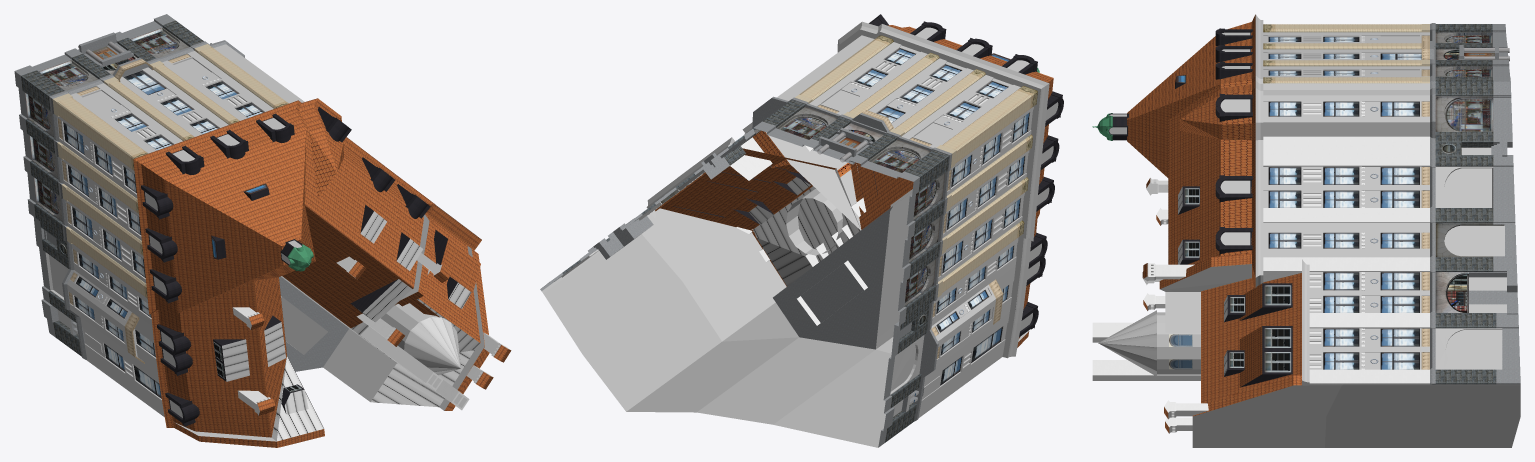
The model's file is Suur-Karja_7.obj.
3 renders of one model, left to right at view 1: azimuth 30°, elevation 25°; view 2: azimuth 150°, elevation 25°; view 3: azimuth 270°, elevation 25°, orthographic. The views are drawn at different scales.
Parts seen in each view (by area): view 1: suurkarja7; view 2: suurkarja7, xxx; view 3: suurkarja7, xxx.
Boxes of the visible parts, x1,y1,x2,y2 form: suurkarja7: (14,14,511,447); suurkarja7: (540,14,1063,447); xxx: (542,234,891,447); suurkarja7: (1092,14,1520,447); xxx: (1325,384,1520,447).
Size of the model in its own units: 30.25 by 24.62 by 30.48.
